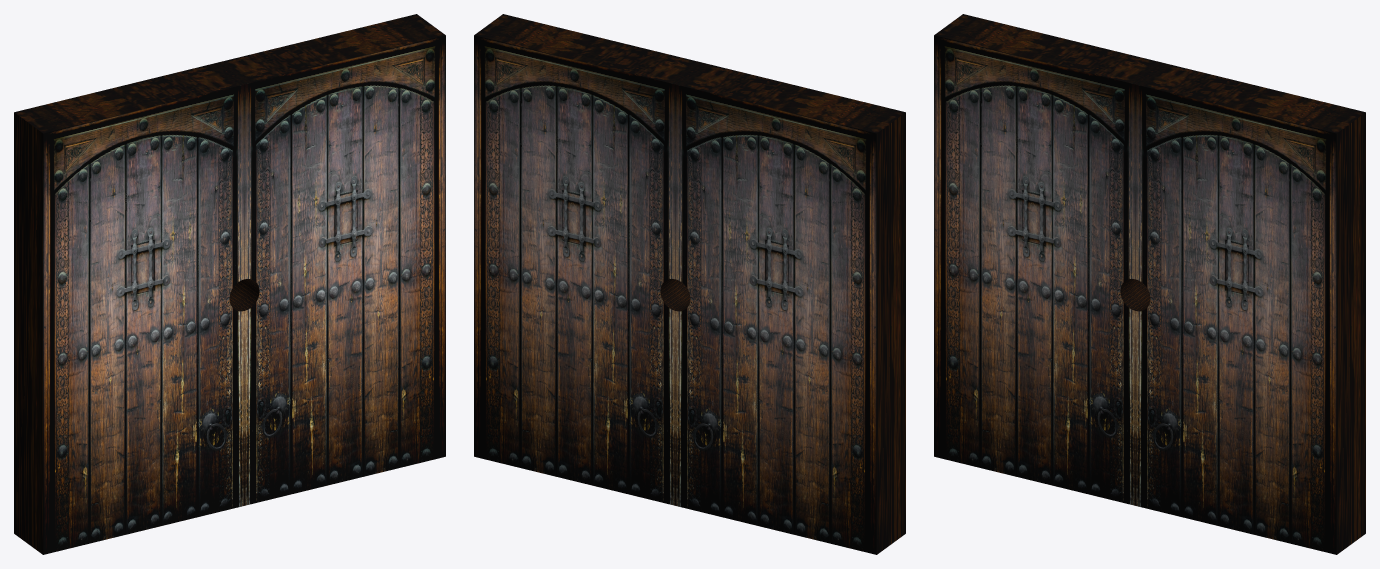
The model's file is lockdoor.fbx.
The picture shows the model from 3 angles, left to right: view 1: azimuth 30°, elevation 25°; view 2: azimuth 150°, elevation 25°; view 3: azimuth 330°, elevation 25°; orthographic projection.
Parts seen in each view (by area): view 1: Door1, Door2; view 2: Door1, Door2; view 3: Door2, Door1.
Boxes of the visible parts, left/top/right/bottom form: Door1: left=14, top=63, right=244, bottom=554; Door2: left=216, top=14, right=445, bottom=505; Door1: left=675, top=63, right=905, bottom=554; Door2: left=474, top=14, right=703, bottom=505; Door2: left=1135, top=63, right=1365, bottom=554; Door1: left=934, top=14, right=1163, bottom=505.
Size of what is drawn, in the model's own units: 800 by 800 by 100.
